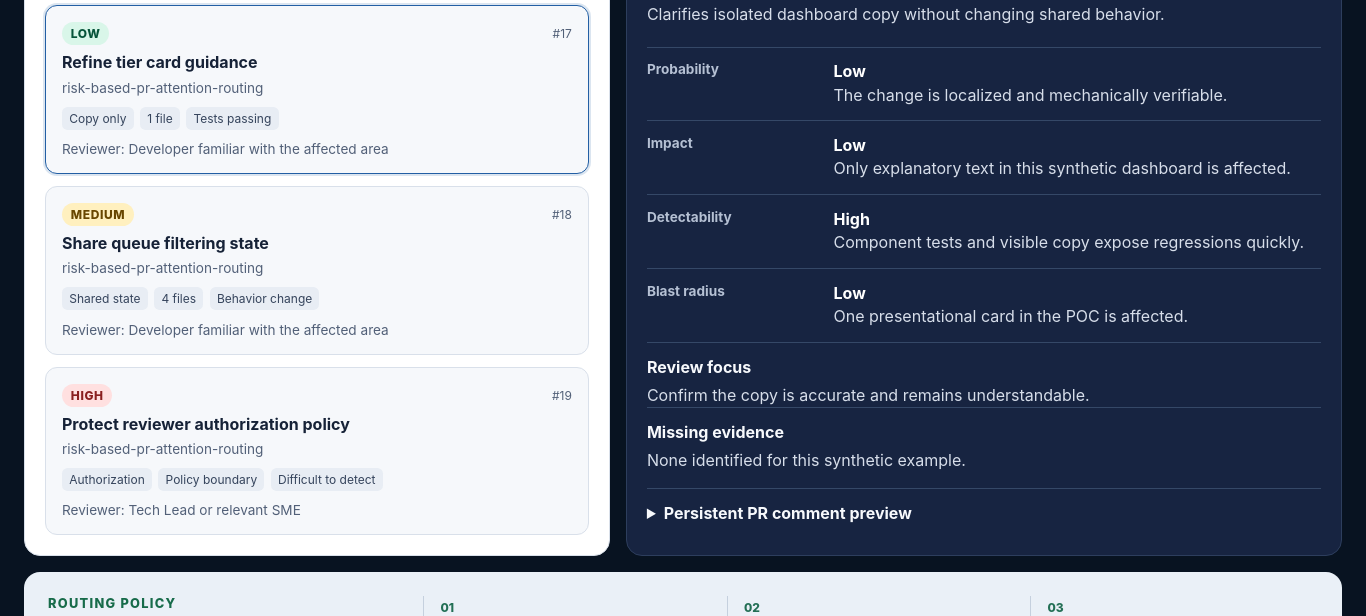
App › updates the evidence panel when a pull request is selected
This screenshot has width=1366, height=616.
(page scrolled)
Click the button "Protect reviewer authorization policy": (87, 395) x1=45 y1=367 x2=589 y2=535
(page scrolled)
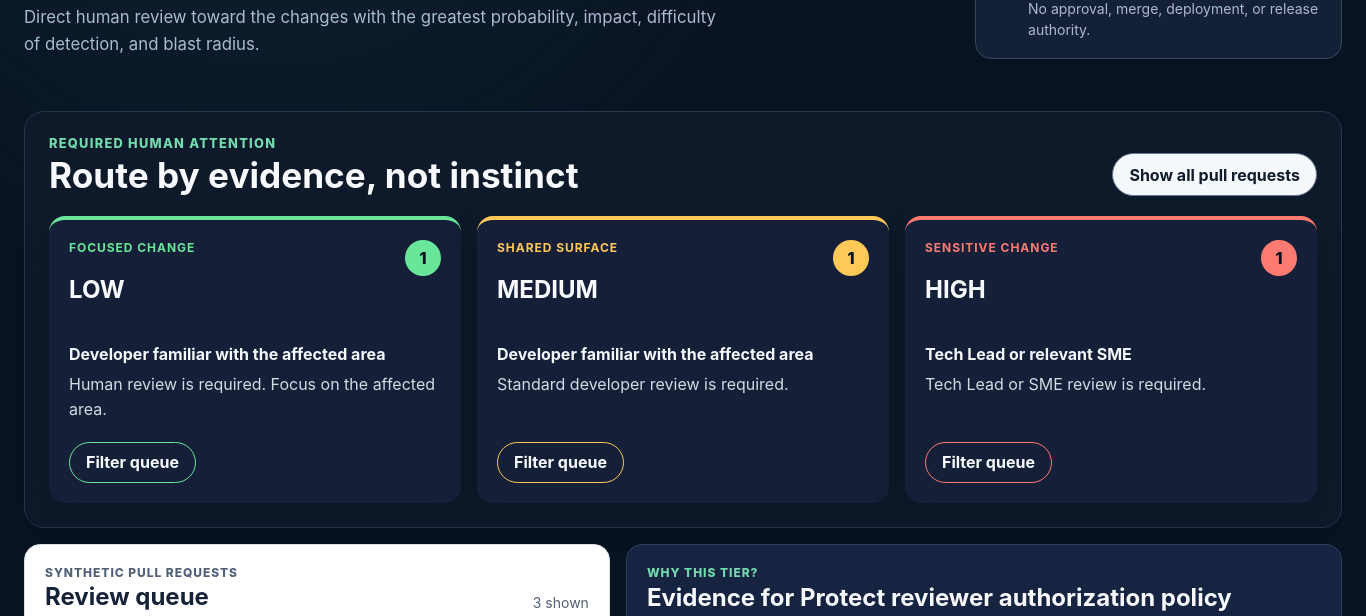
Expected: the text "Tech Lead or relevant SME" is shown, x1=925 y1=344 x2=1132 y2=364
Expected: the heading "Evidence for Protect reviewer authorization policy" is shown, x1=647 y1=583 x2=1321 y2=612
